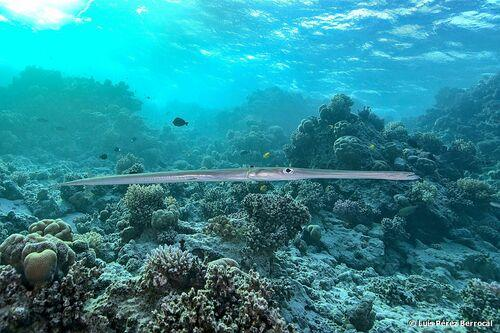Fistularia commersonii: (25, 140, 444, 214)
